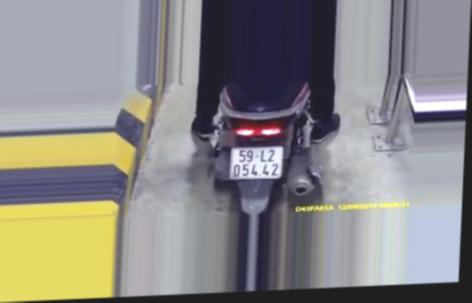License_Plate: (226, 141, 285, 186)
